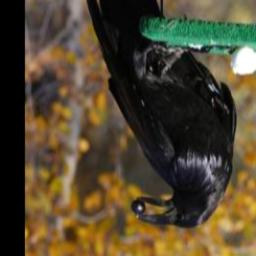Crow: (85, 0, 238, 230)
